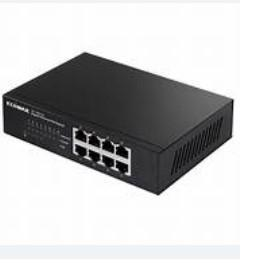NetworkSwitch: (2, 53, 234, 196)
